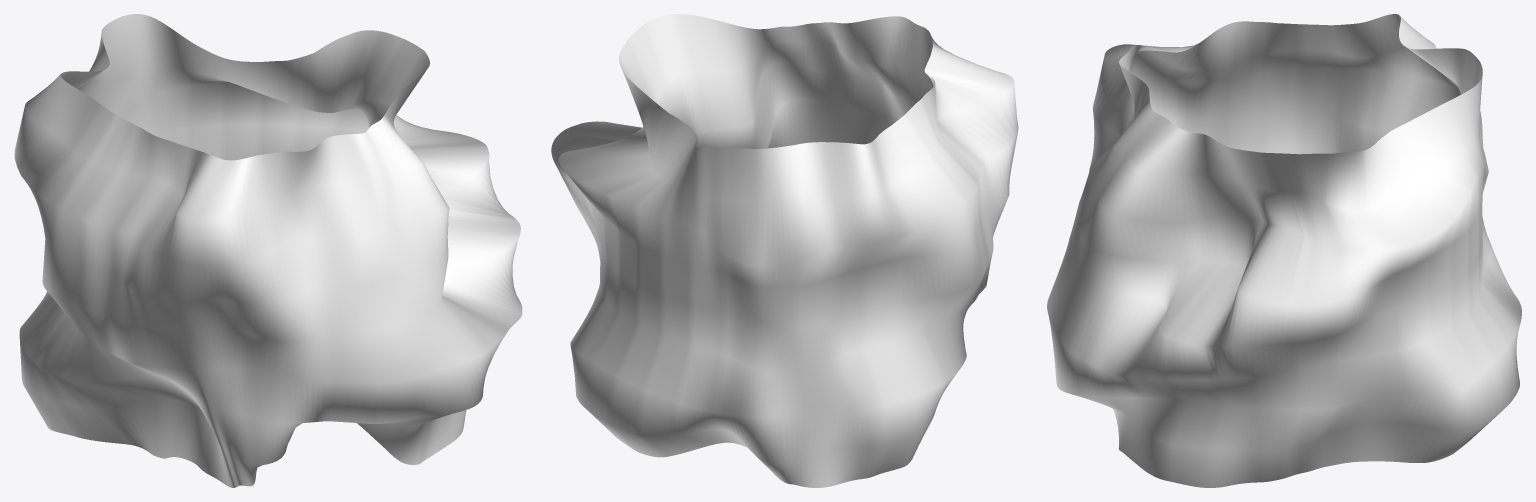
Rendered from environement01.obj.
3 renders of one model, left to right at view 1: azimuth 30°, elevation 25°; view 2: azimuth 150°, elevation 25°; view 3: azimuth 270°, elevation 25°, orthographic. The views are drawn at different scales.
Visible parts, largest first — view 1: Cylinder; view 2: Cylinder; view 3: Cylinder.
Boxes of the visible parts, box(x1,y1,x2,y2) form: Cylinder: box(14, 14, 522, 487); Cylinder: box(551, 14, 1018, 487); Cylinder: box(1047, 14, 1521, 487).
Size of the model in its own units: 52.56 by 40.1 by 51.47.
1 material, 1 textured.
